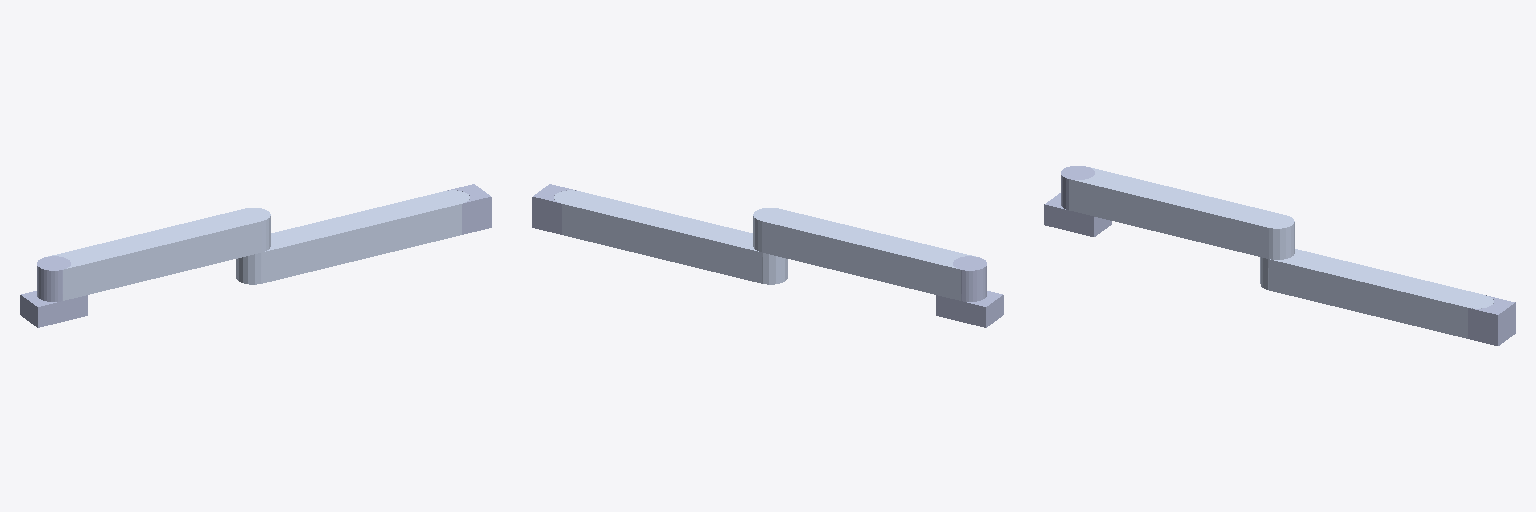
URDF robot description (urdf_2dof):
<?xml version="1.0" encoding="utf-8"?>
<!-- This URDF was automatically created by SolidWorks to URDF Exporter! Originally created by [author] ([email redacted]) 
     Commit Version: 1.6.0-4-g7f85cfe  Build Version: 1.6.7995.38578
     For more information, please see http://wiki.ros.org/sw_urdf_exporter -->
<robot
  name="urdf_2dof">
  <link
    name="base_link">
    <inertial>
      <origin
        xyz="0 0 -0.0146467924787637"
        rpy="0 0 0" />
      <mass
        value="0.0512057504117312" />
      <inertia
        ixx="1.37981603824669E-05"
        ixy="8.68974144612836E-22"
        ixz="-8.24073618421067E-21"
        iyy="1.77981603824669E-05"
        iyz="1.3464119507552E-22"
        izz="1.08856469213198E-05" />
    </inertial>
    <visual>
      <origin
        xyz="0 0 0"
        rpy="0 0 0" />
      <geometry>
        <mesh
          filename="package://urdf_2dof/meshes/base_link.STL" />
      </geometry>
      <material
        name="">
        <color
          rgba="0.792156862745098 0.819607843137255 0.933333333333333 1" />
      </material>
    </visual>
    <collision>
      <origin
        xyz="0 0 0"
        rpy="0 0 0" />
      <geometry>
        <mesh
          filename="package://urdf_2dof/meshes/base_link.STL" />
      </geometry>
    </collision>
  </link>
  <link
    name="Link1">
    <inertial>
      <origin
        xyz="0.121078672322573 -1.11022302462516E-16 -0.0031618008483858"
        rpy="0 0 0" />
      <mass
        value="0.543255526111674" />
      <inertia
        ixx="0.000126513844171624"
        ixy="-1.2880220471045E-19"
        ixz="0.000135560464128087"
        iyy="0.00211414501057547"
        iyz="3.72855352431811E-20"
        izz="0.00206697241309141" />
    </inertial>
    <visual>
      <origin
        xyz="0 0 0"
        rpy="0 0 0" />
      <geometry>
        <mesh
          filename="package://urdf_2dof/meshes/Link1.STL" />
      </geometry>
      <material
        name="">
        <color
          rgba="0.866666666666667 0.909803921568627 1 1" />
      </material>
    </visual>
    <collision>
      <origin
        xyz="0 0 0"
        rpy="0 0 0" />
      <geometry>
        <mesh
          filename="package://urdf_2dof/meshes/Link1.STL" />
      </geometry>
    </collision>
  </link>
  <joint
    name="J1"
    type="revolute">
    <origin
      xyz="0 0 0"
      rpy="0 0 0" />
    <parent
      link="base_link" />
    <child
      link="Link1" />
    <axis
      xyz="0 0 1" />
    <limit
      lower="-3.1415"
      upper="3.1415"
      effort="0"
      velocity="0" />
  </joint>
  <link
    name="Link2">
    <inertial>
      <origin
        xyz="0.111780972450962 0 -2.22044604925031E-16"
        rpy="0 0 0" />
      <mass
        value="0.486" />
      <inertia
        ixx="7.29000000000002E-05"
        ixy="-1.62456221224448E-20"
        ixz="1.36962499524935E-21"
        iyy="0.00166189742242131"
        iyz="3.60502643362299E-21"
        izz="0.00166189742242131" />
    </inertial>
    <visual>
      <origin
        xyz="0 0 0"
        rpy="0 0 0" />
      <geometry>
        <mesh
          filename="package://urdf_2dof/meshes/Link2.STL" />
      </geometry>
      <material
        name="">
        <color
          rgba="0.866666666666667 0.909803921568627 1 1" />
      </material>
    </visual>
    <collision>
      <origin
        xyz="0 0 0"
        rpy="0 0 0" />
      <geometry>
        <mesh
          filename="package://urdf_2dof/meshes/Link2.STL" />
      </geometry>
    </collision>
  </link>
  <joint
    name="J2"
    type="revolute">
    <origin
      xyz="0.2 0 -0.03"
      rpy="0 0 0" />
    <parent
      link="Link1" />
    <child
      link="Link2" />
    <axis
      xyz="0 0 1" />
    <limit
      lower="-1.57"
      upper="1.57"
      effort="0"
      velocity="0" />
  </joint>
  <link
    name="EndEffector">
    <inertial>
      <origin
        xyz="-0.00941712317023224 -1.11022302462516E-16 2.22044604925031E-16"
        rpy="0 0 0" />
      <mass
        value="0.0163971247941345" />
      <inertia
        ixx="2.65837262923016E-06"
        ixy="-7.20654902043793E-23"
        ixz="-2.86162679904832E-23"
        iyy="1.78665169918355E-06"
        iyz="7.32243042242435E-23"
        izz="1.98545560929353E-06" />
    </inertial>
    <visual>
      <origin
        xyz="0 0 0"
        rpy="0 0 0" />
      <geometry>
        <mesh
          filename="package://urdf_2dof/meshes/EndEffector.STL" />
      </geometry>
      <material
        name="">
        <color
          rgba="0.792156862745098 0.819607843137255 0.933333333333333 1" />
      </material>
    </visual>
    <collision>
      <origin
        xyz="0 0 0"
        rpy="0 0 0" />
      <geometry>
        <mesh
          filename="package://urdf_2dof/meshes/EndEffector.STL" />
      </geometry>
    </collision>
  </link>
  <joint
    name="J3"
    type="fixed">
    <origin
      xyz="0.23 0 0"
      rpy="0 0 0" />
    <parent
      link="Link2" />
    <child
      link="EndEffector" />
    <axis
      xyz="0 0 0" />
  </joint>
</robot>

--- Facts derived from the render (not from the file) ---
Views: 3 orthographic renders of the robot side by side, from view 1: azimuth 30°, elevation 25°; view 2: azimuth 150°, elevation 25°; view 3: azimuth 330°, elevation 25°.
Model urdf_2dof with 4 links and 3 joints (2 revolute, 1 fixed), rooted at base_link, posed every joint at zero.
Visible links, largest first — view 1: Link1, Link2, base_link, EndEffector; view 2: Link1, Link2, base_link, EndEffector; view 3: Link1, Link2, base_link, EndEffector.
Boxes of the visible links, x1,y1,x2,y2 form: Link1: (48, 208, 270, 300); Link2: (262, 190, 469, 283); base_link: (20, 256, 87, 327); EndEffector: (447, 184, 491, 234); Link1: (753, 208, 975, 300); Link2: (554, 190, 761, 283); base_link: (936, 256, 1003, 327); EndEffector: (532, 184, 576, 234); Link1: (1069, 167, 1294, 289); Link2: (1269, 249, 1493, 338); base_link: (1044, 166, 1111, 236); EndEffector: (1468, 295, 1515, 345).
Size in the robot's own frame: 0.455 by 0.03 by 0.06 metres.
4 mesh visuals loaded from 4 distinct referenced files (4 binary STL).
